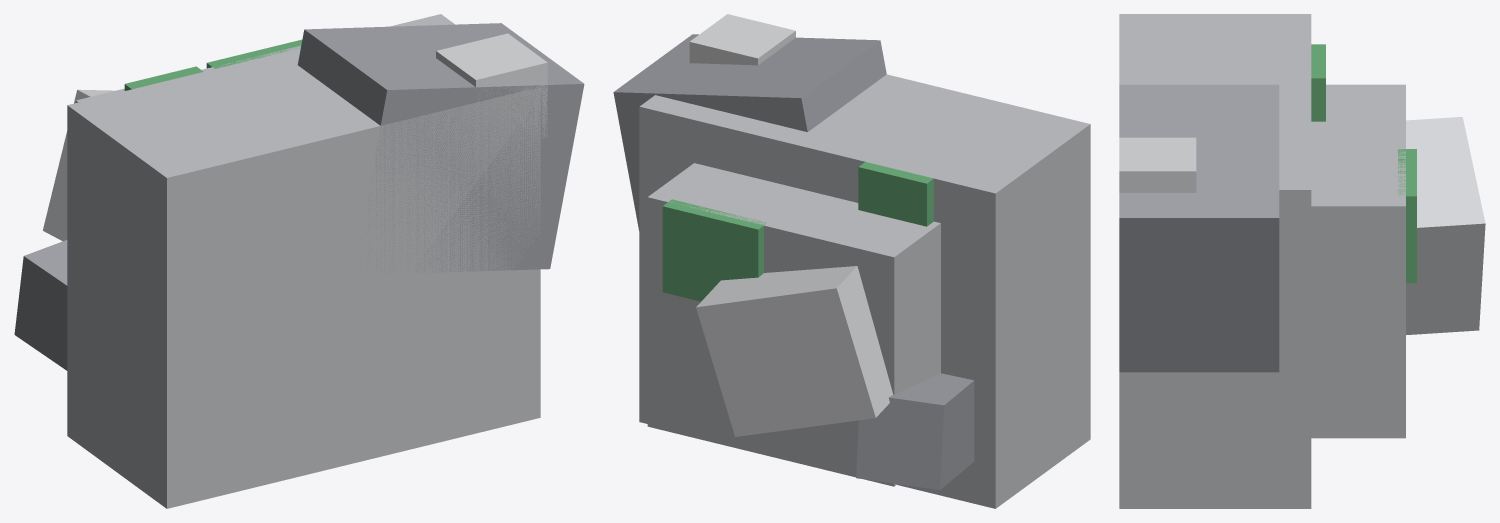
File: stone_rock.glb
3 renders of one model, left to right at view 1: azimuth 30°, elevation 25°; view 2: azimuth 150°, elevation 25°; view 3: azimuth 270°, elevation 25°, orthographic. The views are drawn at different scales.
Parts seen in each view (by area): view 1: Base, Base2, Shard, Pebble, Top, Moss; view 2: Base, Mid, Top, Base2, Shard, Moss, Pebble, Moss2; view 3: Base, Base2, Mid, Top, Pebble, Moss, Moss2.
Part boxes in pixels (<box>): Base: <box>67,14,540,508</box>; Base2: <box>297,23,584,274</box>; Shard: <box>14,240,67,370</box>; Pebble: <box>436,33,547,138</box>; Top: <box>43,89,114,241</box>; Moss: <box>206,39,302,68</box>; Base: <box>639,74,1090,508</box>; Mid: <box>647,163,940,486</box>; Top: <box>696,266,893,436</box>; Base2: <box>613,34,886,230</box>; Shard: <box>856,373,974,489</box>; Moss: <box>662,199,766,301</box>; Pebble: <box>689,14,795,65</box>; Moss2: <box>858,162,933,226</box>; Base: <box>1119,14,1311,508</box>; Base2: <box>1119,84,1279,372</box>; Mid: <box>1311,84,1405,438</box>; Top: <box>1406,117,1485,334</box>; Pebble: <box>1119,137,1196,192</box>; Moss: <box>1398,149,1416,283</box>; Moss2: <box>1311,44,1325,121</box>.
Size of the model in its own units: 1.45 by 1.21 by 1.14.
